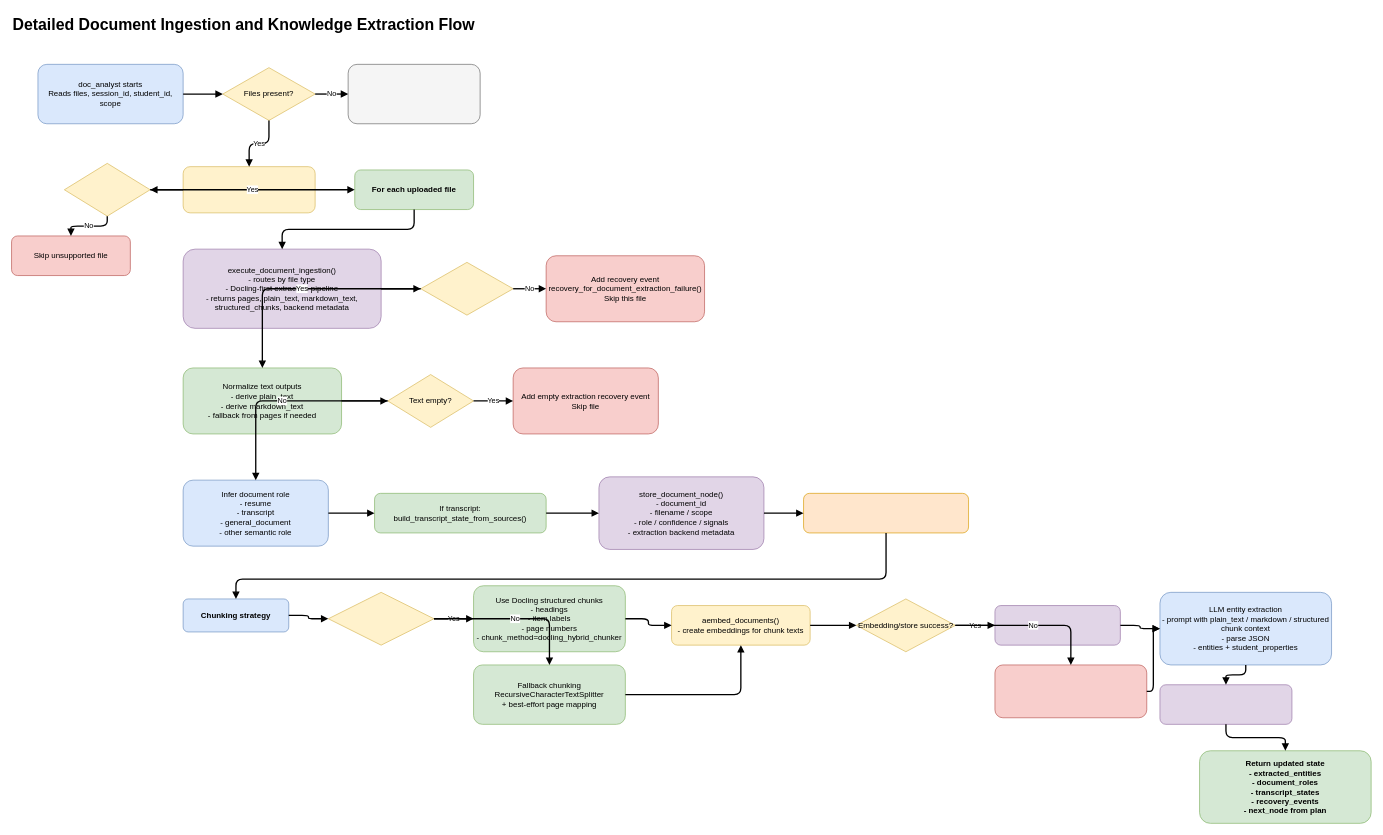
The diagram is 1383 pixels wide and 835 high, and some of its shapes have lost their labels. Each missing label, with the centre of its shape:
Add embedding failure recovery event Document metadata remains available: point 1070,691
Detect file type pdf / image / docx / text / unsupported: point 248,189
Extraction succeeded?: point 466,288
If transcript: store_evidence(source_type=transcript_state): point 886,513
Return unchanged state - add 'No files to process' progress: point 413,94
store_chunks() in vector index: point 1057,625
store_extracted_entities(): point 1225,704
Structured chunks available?: point 381,618
Supported type?: point 107,189
